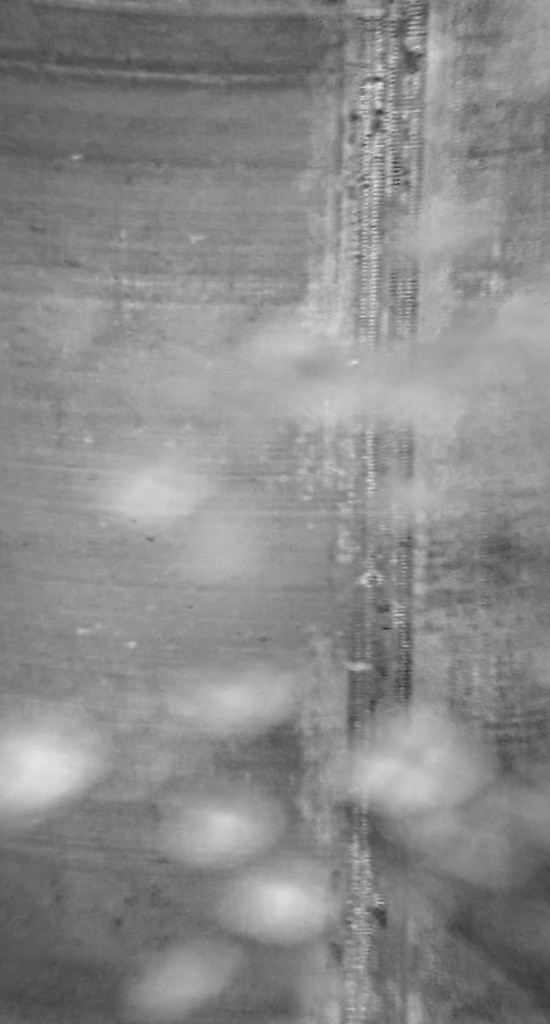splice: (332, 3, 429, 1024)
